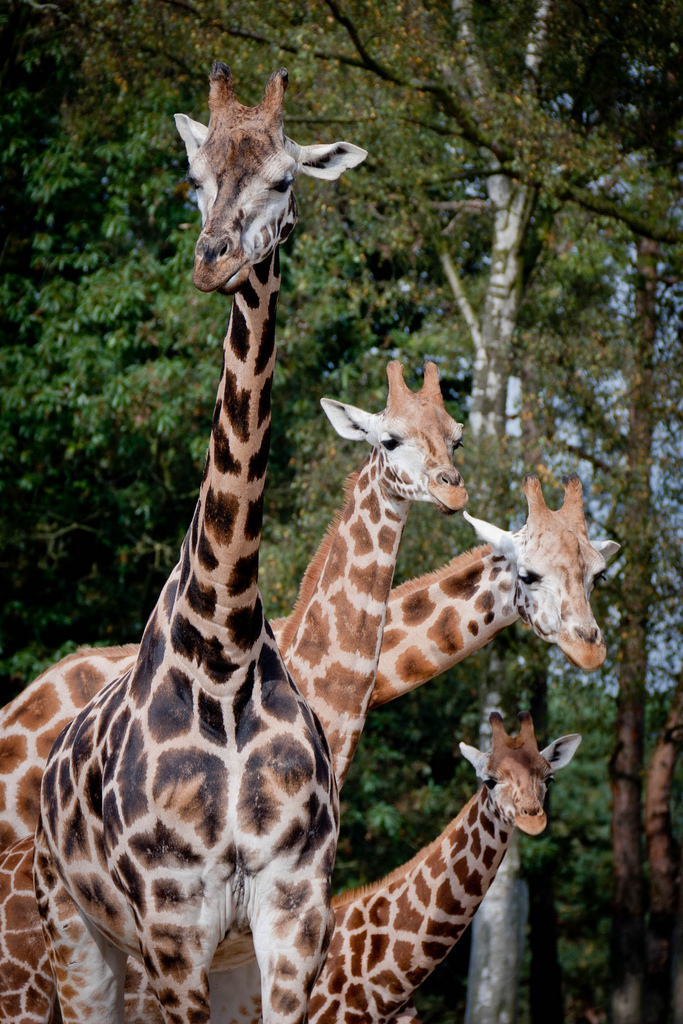giraffe: (92, 72, 336, 990), (373, 459, 639, 738), (350, 702, 598, 982), (297, 334, 447, 783)
